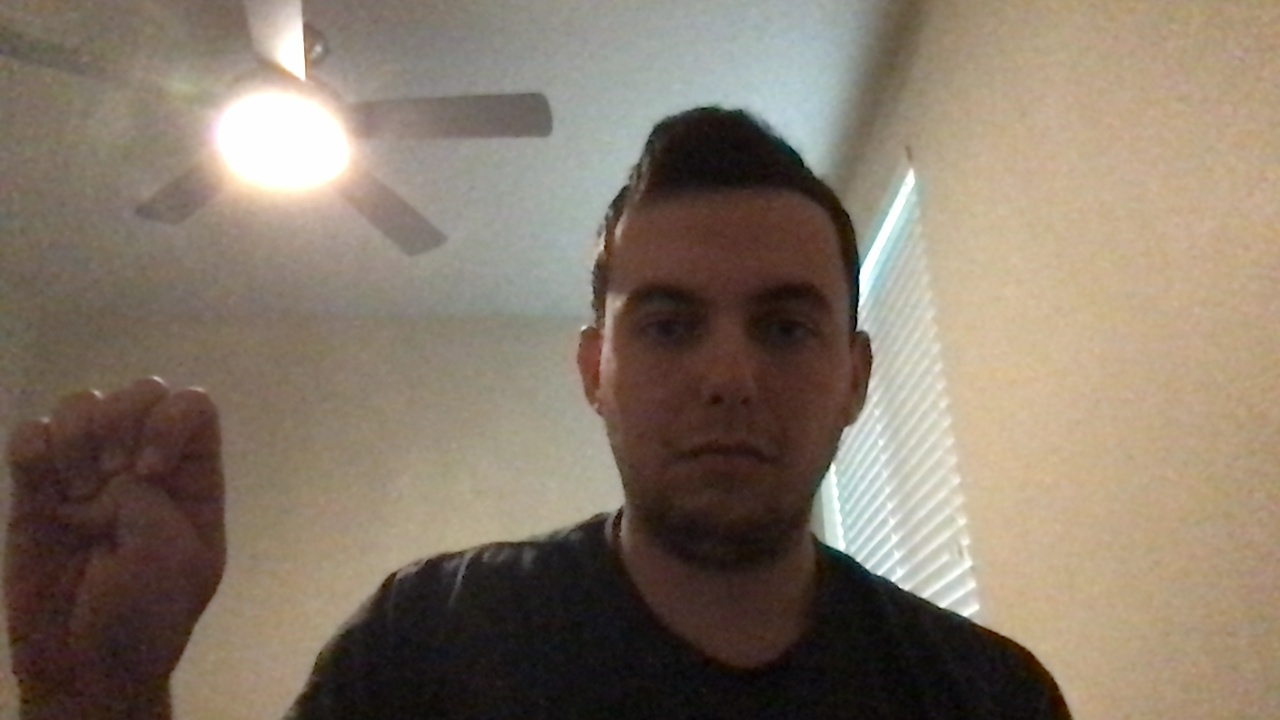e: (1, 365, 274, 683)
